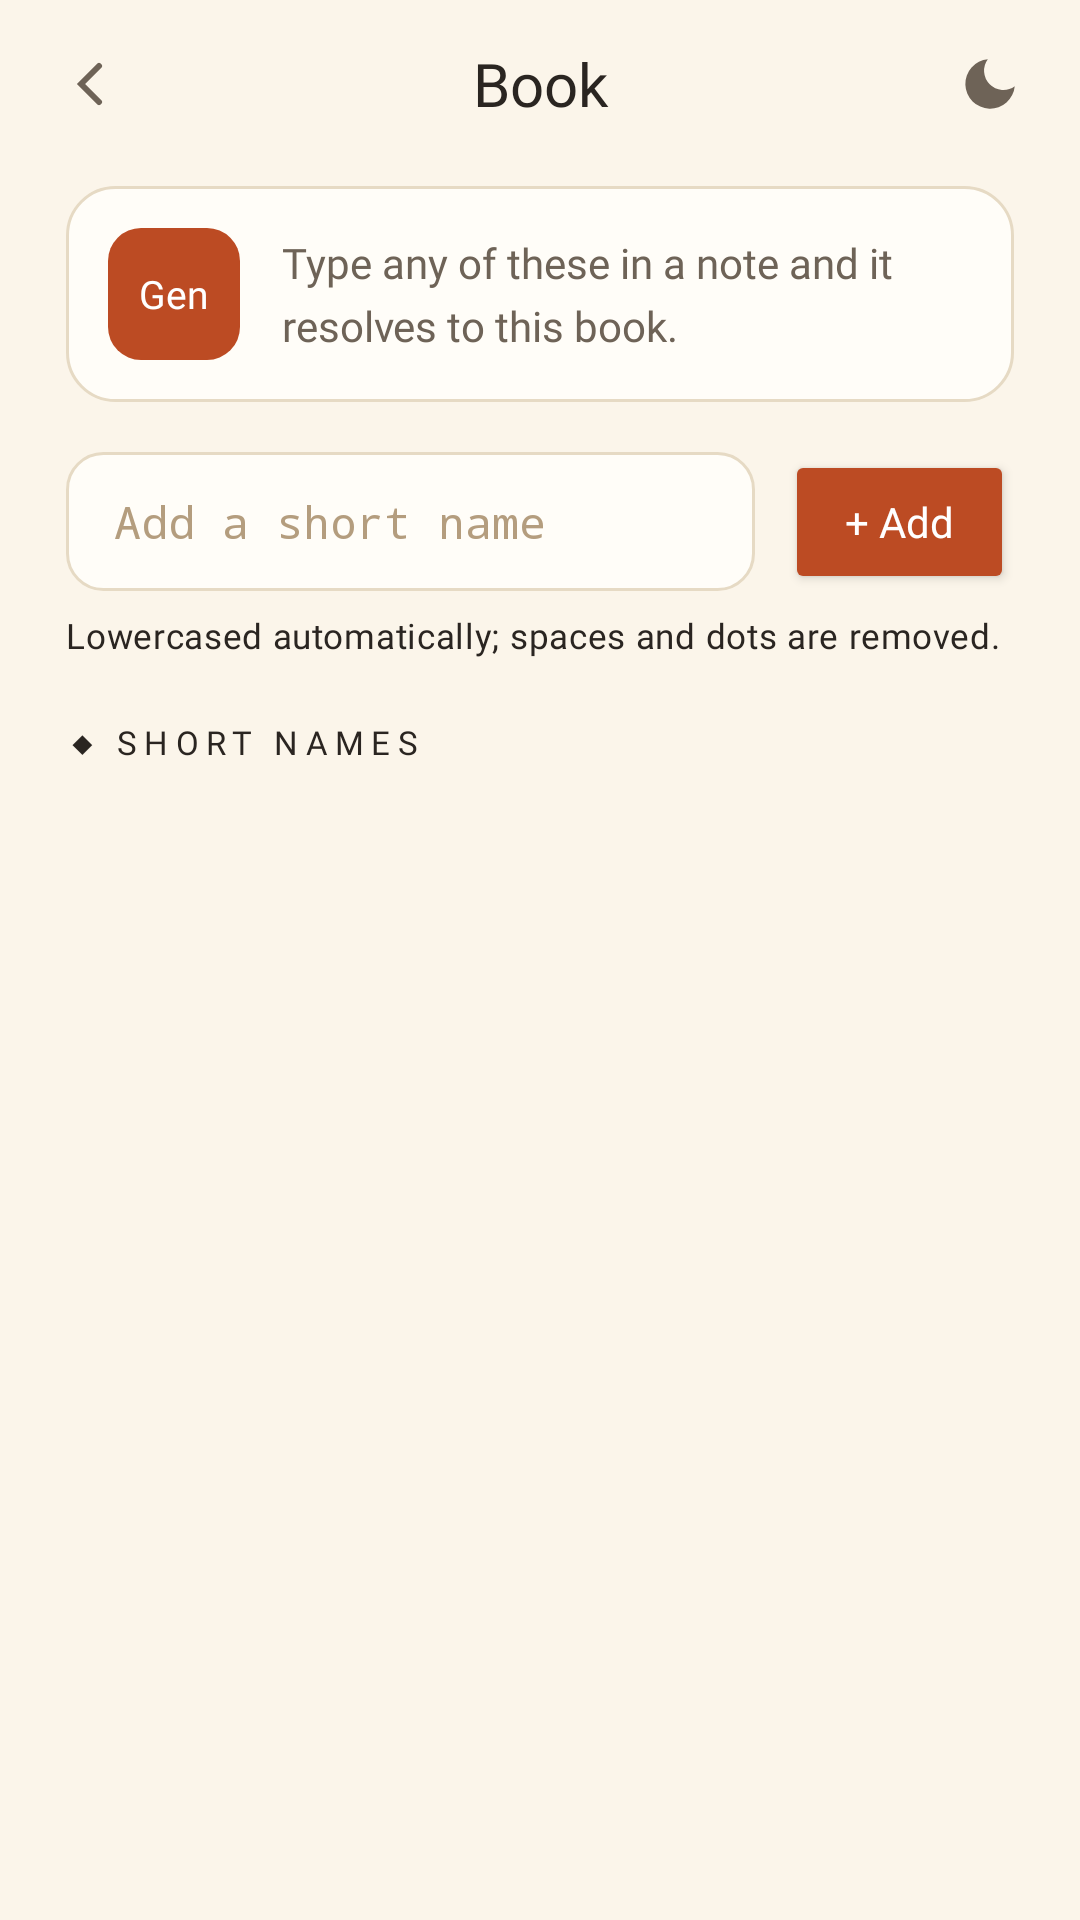

Named icons in this screenshot (1080w x 1920h) and their centers, point (x, y):
Back: point (89, 84)
Toggle theme: point (990, 84)
